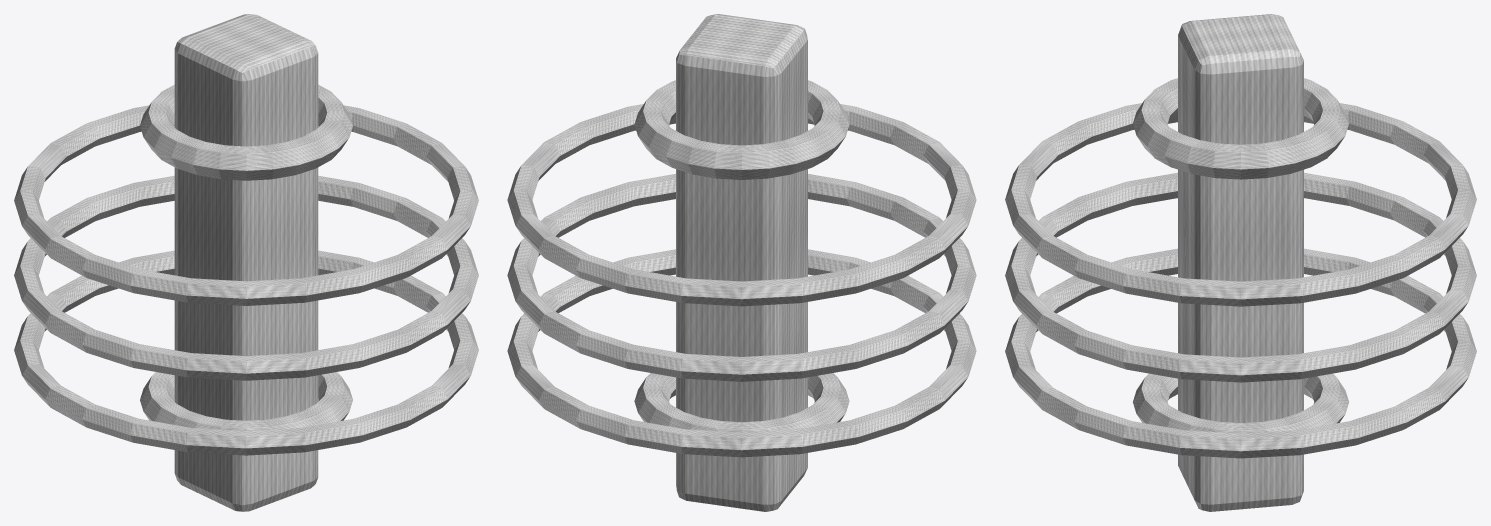
Rendered from item-iron-rod_variant_c.glb.
3 views of the same model, side by side, from view 1: azimuth 30°, elevation 25°; view 2: azimuth 150°, elevation 25°; view 3: azimuth 270°, elevation 25° (orthographic).
Parts seen in each view (by area): view 1: Long component.002, Variant collar.001, Variant collar.002, Variant collar, Machined collar.006, Machined collar.005; view 2: Long component.002, Variant collar.001, Variant collar.002, Variant collar, Machined collar.006, Machined collar.005; view 3: Long component.002, Variant collar.001, Variant collar.002, Variant collar, Machined collar.006, Machined collar.005.
Part boxes in pixels (box(x1,y1,x2,y2)): Long component.002: box(174, 14, 318, 511); Variant collar.001: box(14, 175, 478, 380); Variant collar.002: box(14, 105, 478, 305); Variant collar: box(14, 250, 478, 455); Machined collar.006: box(140, 84, 352, 180); Machined collar.005: box(140, 372, 352, 430); Long component.002: box(676, 14, 807, 511); Variant collar.001: box(507, 174, 976, 381); Variant collar.002: box(507, 104, 976, 306); Variant collar: box(507, 249, 976, 457); Machined collar.006: box(634, 80, 849, 179); Machined collar.005: box(634, 373, 849, 432); Long component.002: box(1178, 14, 1303, 511); Variant collar.001: box(1005, 172, 1476, 382); Variant collar.002: box(1005, 103, 1476, 306); Variant collar: box(1005, 248, 1476, 458); Machined collar.006: box(1133, 78, 1348, 179); Machined collar.005: box(1133, 373, 1348, 433).
Size of what is drawn, in the model's own units: 0.676 by 0.72 by 0.676.
3 materials, 3 textured.
